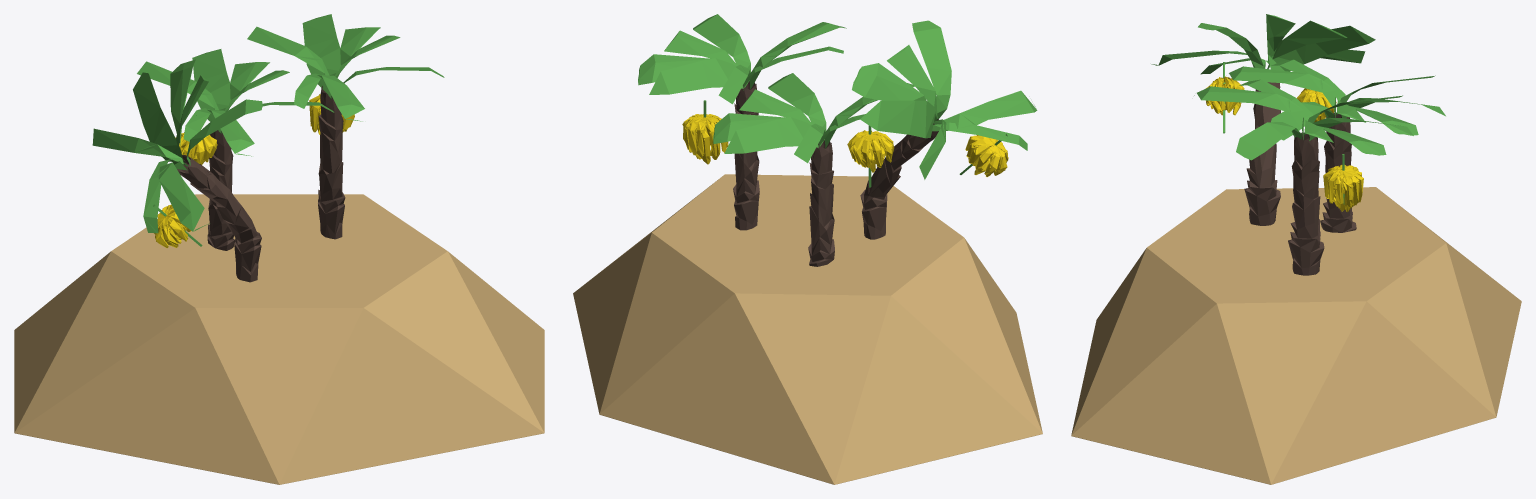
File: insel7.fbx
3 renders of one model, left to right at view 1: azimuth 30°, elevation 25°; view 2: azimuth 150°, elevation 25°; view 3: azimuth 270°, elevation 25°, orthographic. The views are drawn at different scales.
Visible parts, largest first — view 1: Landschaft, Blätter, Blätter_6, Blätter_4, Stamm_6, Stamm, Stamm_4, Banane_2, Banane_1; view 2: Landschaft, Blätter, Blätter_6, Blätter_4, Stamm_4, Stamm, Stamm_6, Banane, Banane_1, Banane_2; view 3: Landschaft, Blätter, Blätter_6, Blätter_4, Stamm_6, Stamm, Stamm_4, Banane, Banane_2.
Part boxes in pixels (x1,y1,x2,y2): Landschaft: (14,194,544,484); Blätter: (92,59,262,233); Blätter_6: (247,14,444,121); Blätter_4: (137,49,334,156); Stamm_6: (318,86,345,239); Stamm: (174,154,261,282); Stamm_4: (207,130,234,250); Banane_2: (154,204,190,247); Banane_1: (175,132,217,164); Landschaft: (573,174,1042,484); Blätter: (852,20,1037,179); Blätter_6: (638,14,846,104); Blätter_4: (713,73,914,163); Stamm_4: (808,140,834,266); Stamm: (860,119,938,239); Stamm_6: (733,81,759,230); Banane: (682,114,728,164); Banane_1: (847,130,894,172); Banane_2: (965,135,1008,177); Landschaft: (1071,187,1521,484); Blätter: (1151,14,1375,74); Blätter_6: (1194,79,1413,160); Blätter_4: (1229,59,1445,140); Stamm_6: (1288,132,1324,275); Stamm: (1244,82,1280,225); Stamm_4: (1320,112,1356,232); Banane: (1323,165,1363,212); Banane_2: (1206,76,1244,115).
Bounding box in the file's own units: 4001 × 2530 × 3280.
Materials: 4 (3 with a texture image).
